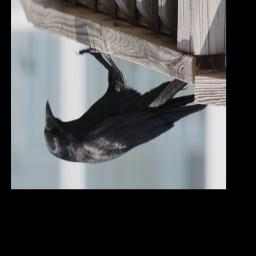Crow: (43, 48, 209, 165)
